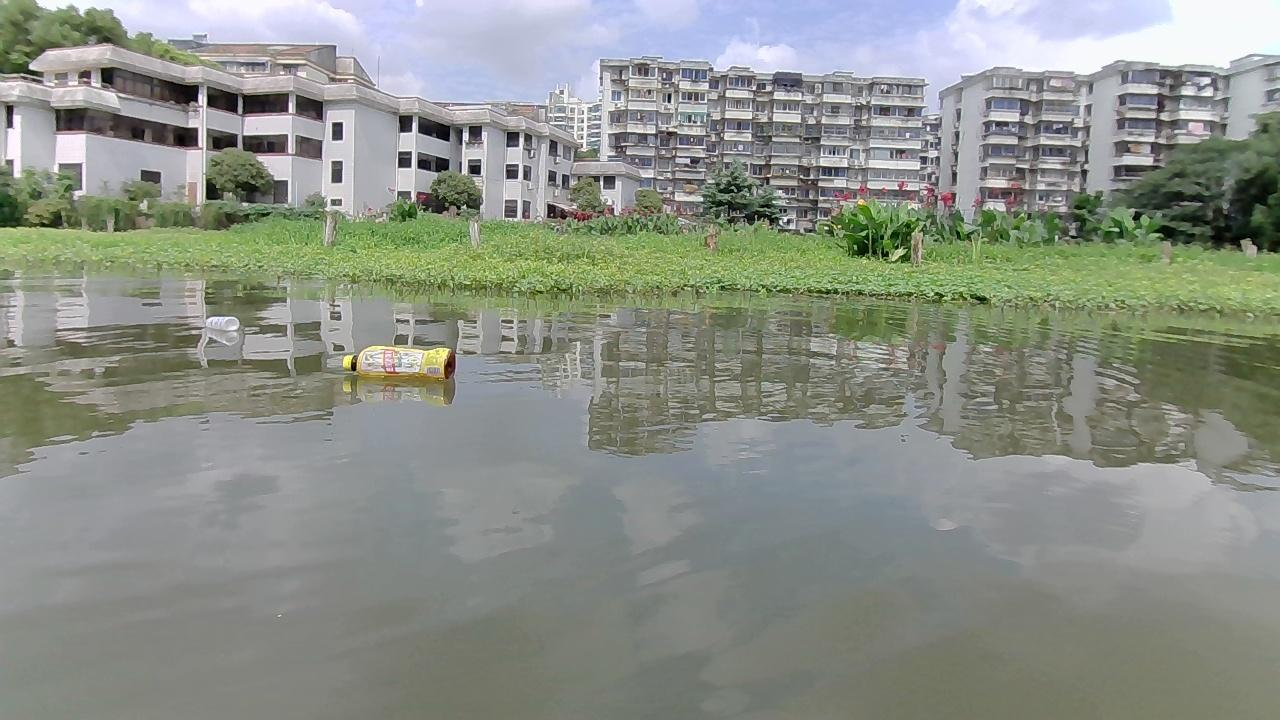bottle: (342, 344, 454, 380), (203, 315, 239, 329)
